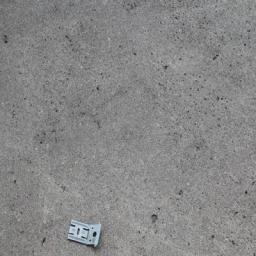FOD: (66, 216, 106, 251)
